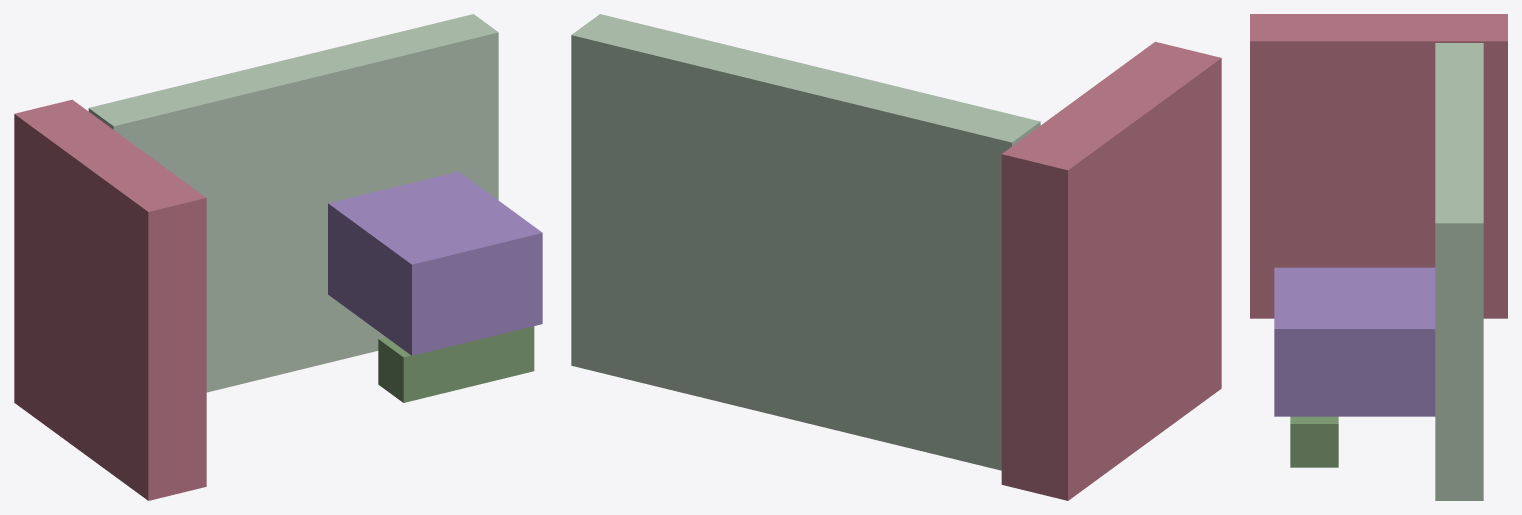
3 renders of one model, left to right at view 1: azimuth 30°, elevation 25°; view 2: azimuth 150°, elevation 25°; view 3: azimuth 270°, elevation 25°, orthographic. The views are drawn at different scales.
Parts seen in each view (by area): view 1: world; view 2: world; view 3: world.
Boxes of the visible parts, <box> form: world: <box>14,14,542,500</box>; world: <box>571,14,1221,500</box>; world: <box>1250,14,1507,500</box>.
Size of the model in its own units: 6.15 by 3.8 by 3.2.
